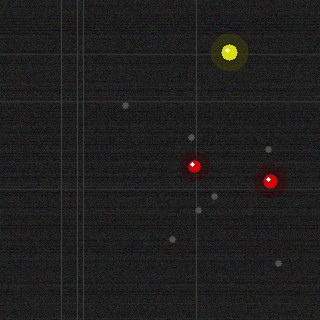red_fault: (261, 172, 279, 190), (186, 158, 202, 174)
yellow_warning: (219, 42, 239, 62)
